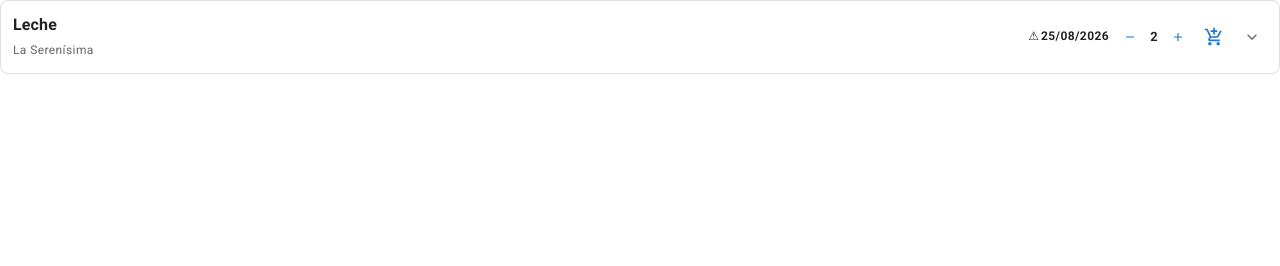
Test: ProductCard › expands to show details when the summary row is clicked
Click the text "Leche" at point(35, 24), box [13,15,57,34]
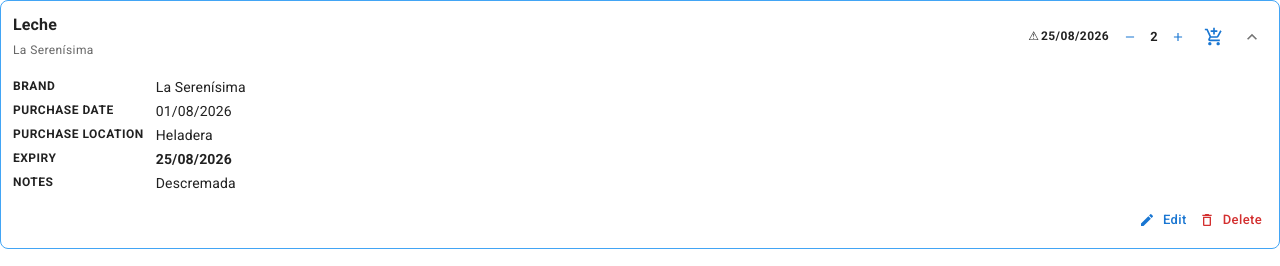
Now the text "Heladera" is shown, box [156,127,213,143]
Now the text "Descremada" is shown, box [156,175,236,191]
